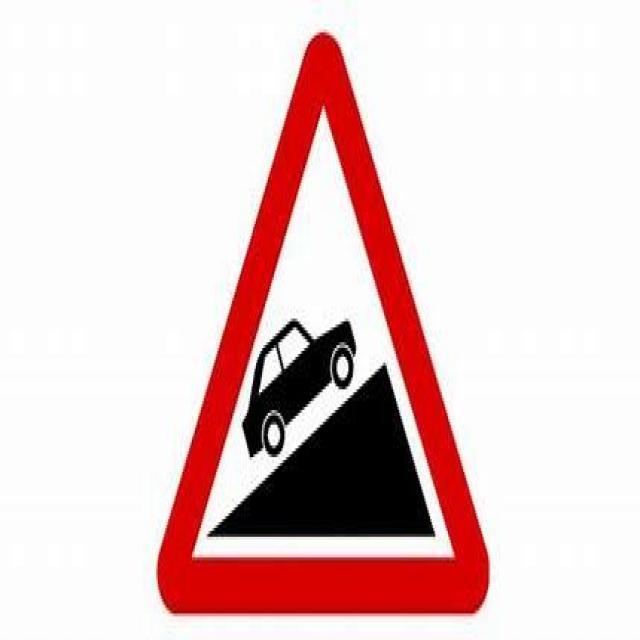STEEP_ASCENT: (151, 11, 494, 623)
